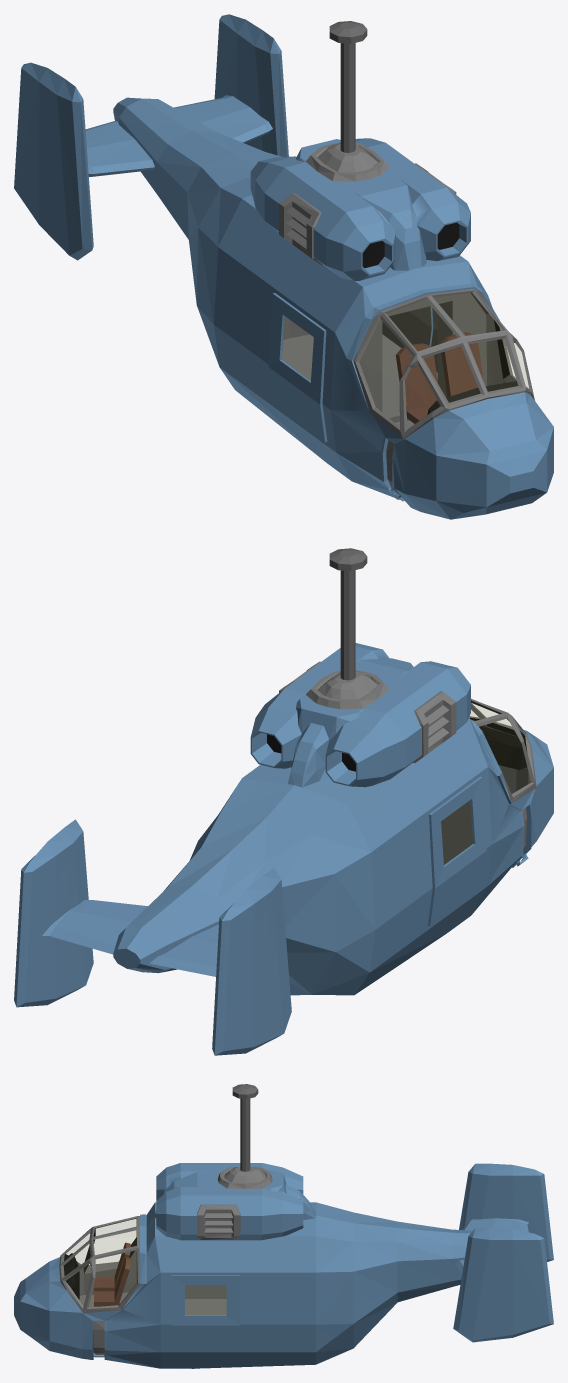
The model's file is aircraft_9.glb.
3 renders of one model, top to bottom at view 1: azimuth 30°, elevation 25°; view 2: azimuth 150°, elevation 25°; view 3: azimuth 270°, elevation 25°, orthographic. The views are drawn at different scales.
Visible parts, largest first — view 1: Fuselage, Engines, Door, Seat, RotorShaft; view 2: Fuselage, Engines, Door, RotorShaft; view 3: Fuselage, Engines, Door, Seat, RotorShaft.
Part boxes in pixels (x1,y1,x2,y2): Fuselage: (14, 14, 553, 519); Engines: (250, 138, 470, 280); Door: (268, 293, 437, 442); Seat: (395, 332, 483, 423); RotorShaft: (329, 21, 367, 152); Fuselage: (14, 658, 553, 1055); Engines: (250, 643, 470, 787); Door: (428, 776, 486, 925); RotorShaft: (329, 548, 367, 680); Fuselage: (14, 1163, 553, 1368); Engines: (156, 1163, 303, 1240); Door: (171, 1275, 239, 1349); Seat: (94, 1242, 130, 1306); RotorShaft: (232, 1084, 258, 1171).
Size of the model in its own units: 3.24 by 5.98 by 10.61.
